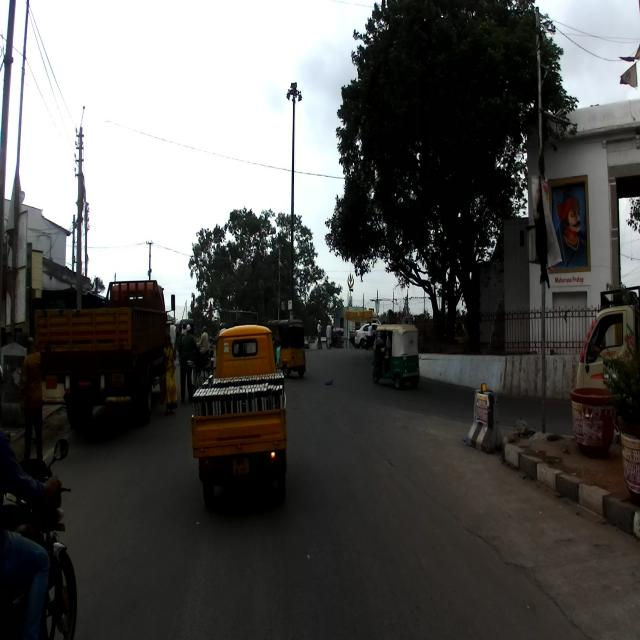autorickshaw: (190, 321, 288, 515), (371, 322, 420, 391)
motorcycle_Honda: (0, 436, 78, 639)
truck: (31, 278, 176, 430)
